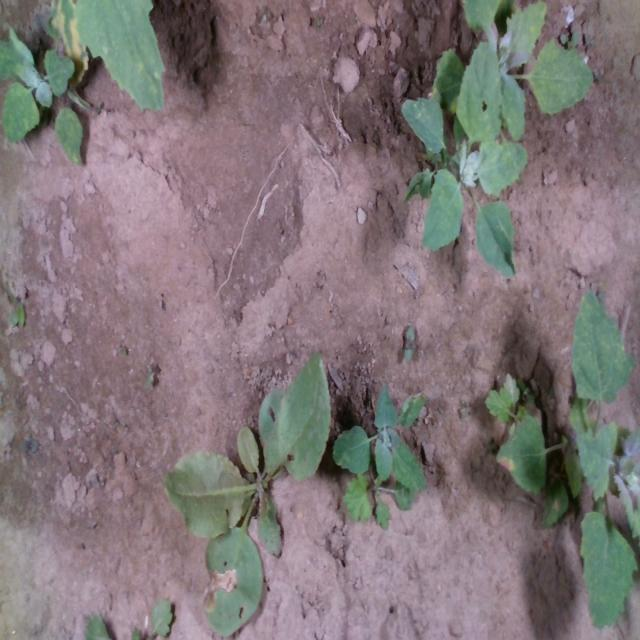weed: (402, 321, 416, 364), (144, 361, 155, 392), (154, 289, 160, 312)
